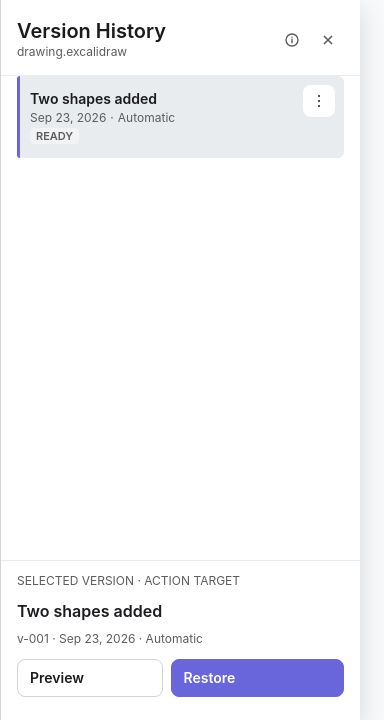
Test: HistoryPanel › moves focus into More version actions and returns it on Escape
Click the button named "More actions for v-001" at (319, 101), box x1=303 y1=85 x2=335 y2=117
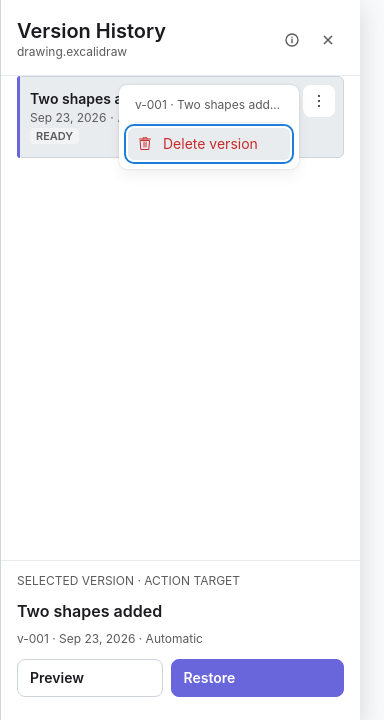
Now the menu is shown, box x1=119 y1=85 x2=299 y2=169
Press Escape
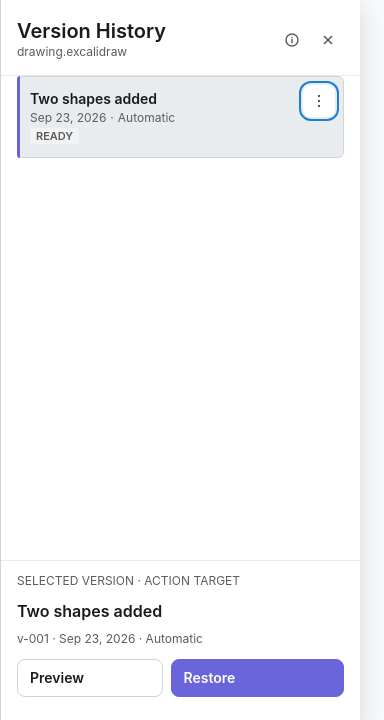
Now the menu is gone
